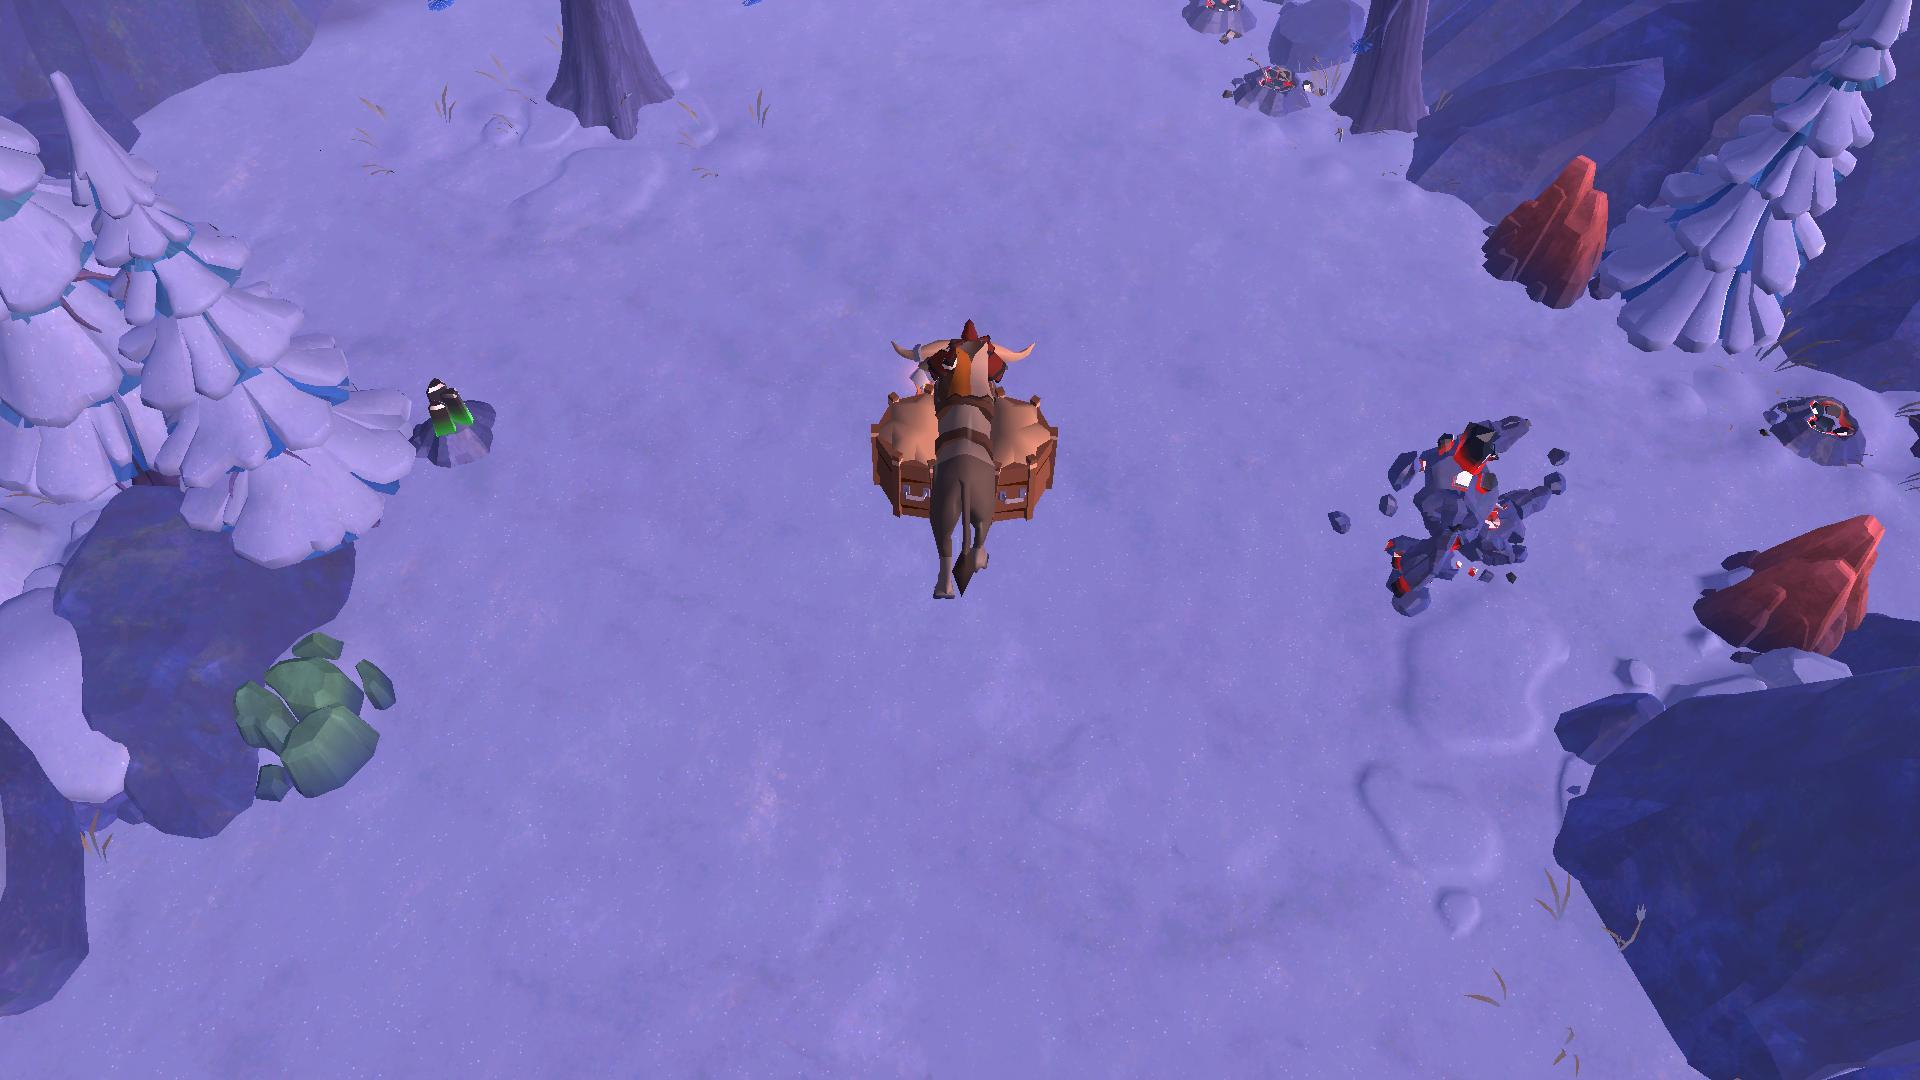ore_t3: (421, 376, 476, 442)
rock_t3: (223, 628, 407, 808)
rock_t5: (1704, 509, 1871, 670), (1480, 154, 1609, 311)
